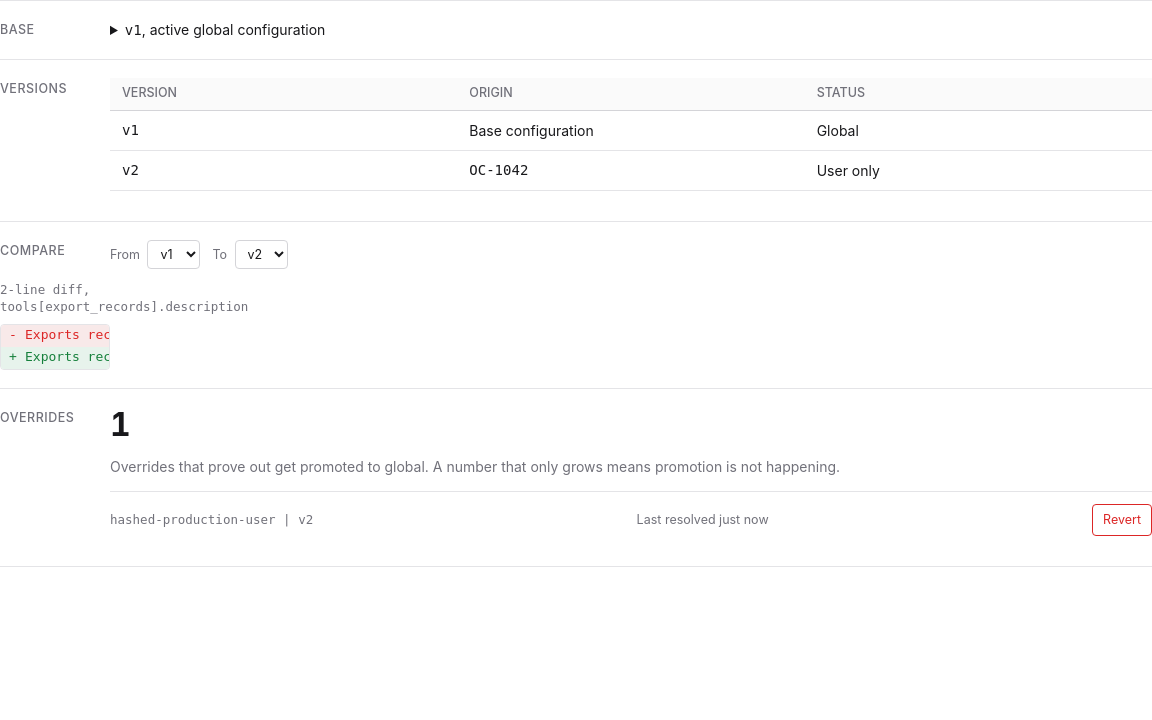
Test: ConfigWorkspace › requires confirmation and removes a reverted override
The image size is (1152, 720).
Click the button "Revert".
click(1122, 520)  # box [1092,504,1151,536]
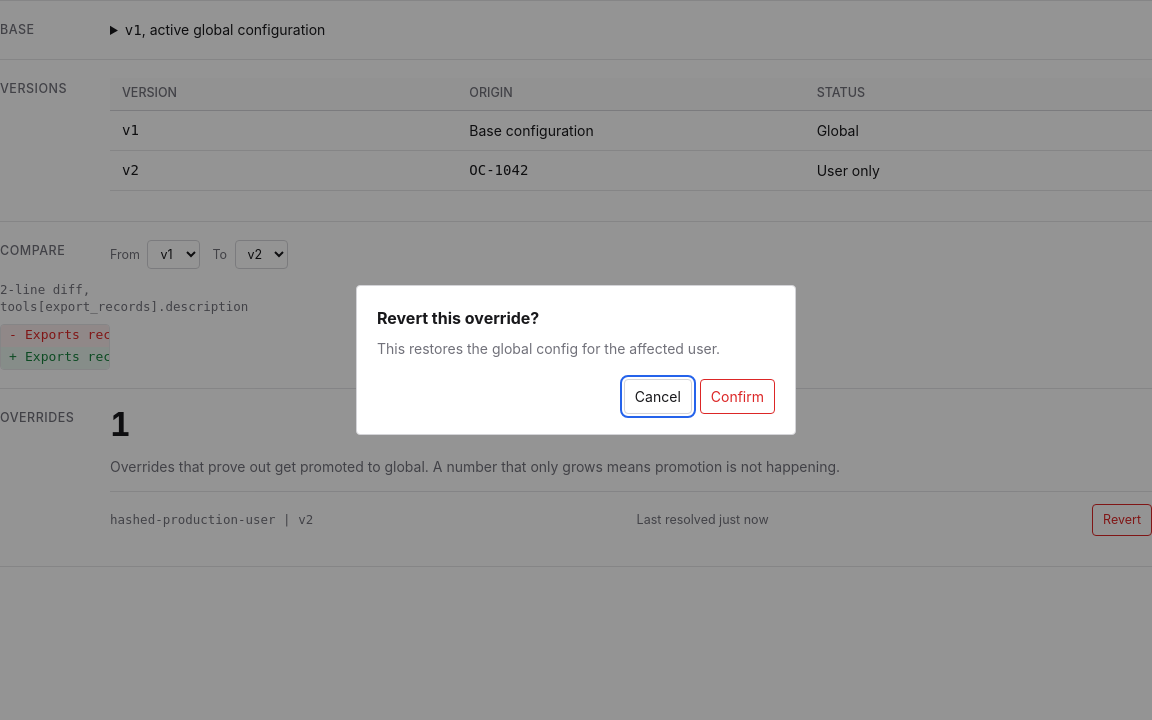
Now the dialog is shown, box [356,285,796,435]
Click the button "Confirm".
click(737, 396)  # box [700,379,775,414]
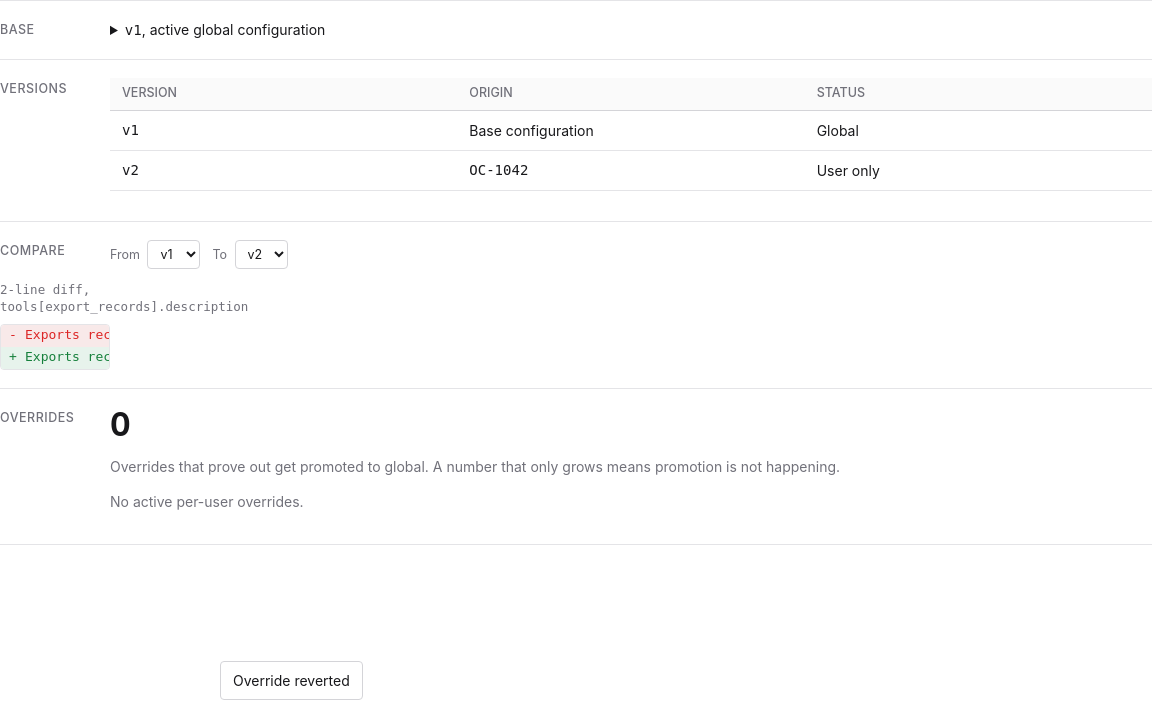
Now the text "No active per-user overrides." is shown, box [110,493,304,510]
Now the text "Override reverted" is shown, box [220,661,363,700]
